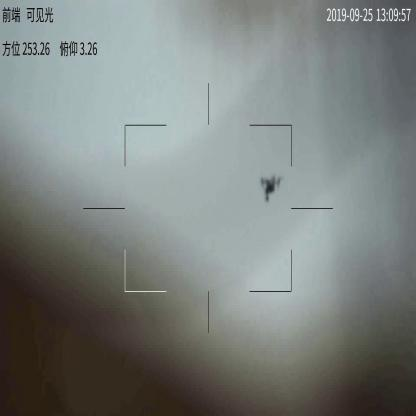uav: (258, 173, 282, 203)
